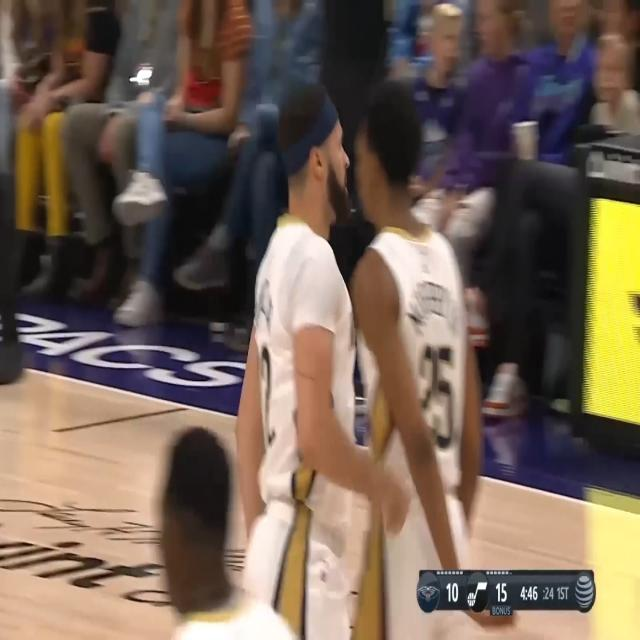Period: (556, 583, 570, 604)
Player: (231, 80, 411, 640), (346, 83, 516, 640), (153, 426, 300, 640)
Shot Clock: (543, 584, 554, 602)
Team Points: (446, 581, 460, 606), (496, 581, 507, 606)
Time Remaining: (518, 583, 541, 603)
